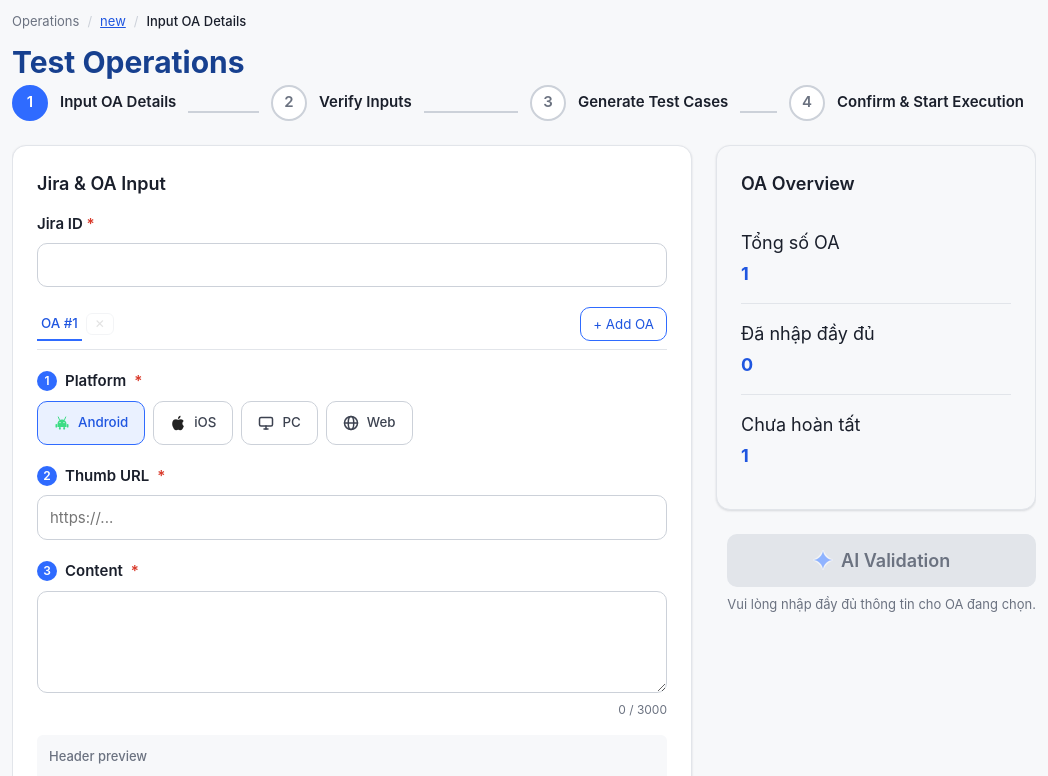
InputScreen › starts with a single OA tab and can add another
Expected: the tab "OA #1" is shown, x1=37 y1=307 x2=82 y2=341
Expected: the tab "OA #2" is not shown
Click the button "+ Add OA". click: (624, 324)
box: x1=580 y1=307 x2=667 y2=341
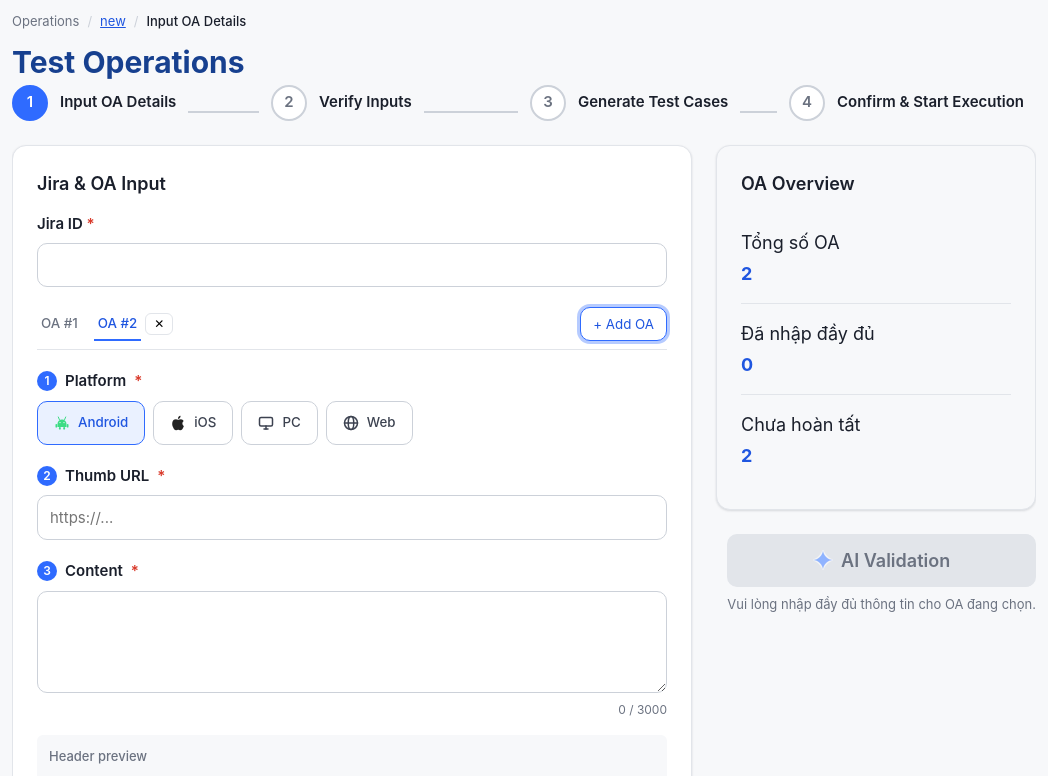
Expected: the tab "OA #2" is shown, x1=94 y1=307 x2=141 y2=341
